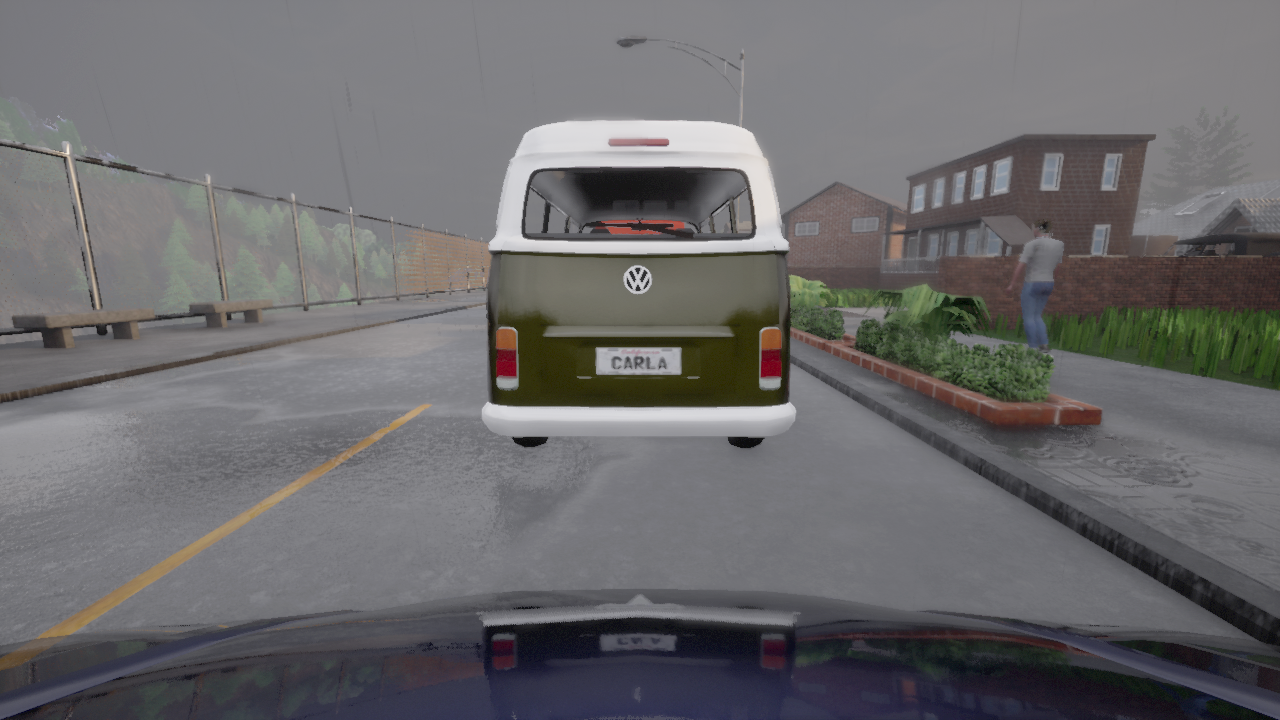cyclist: (0, 588, 1279, 719), (481, 120, 795, 448), (1163, 233, 1279, 255)
pedestrian: (1005, 218, 1065, 354)
